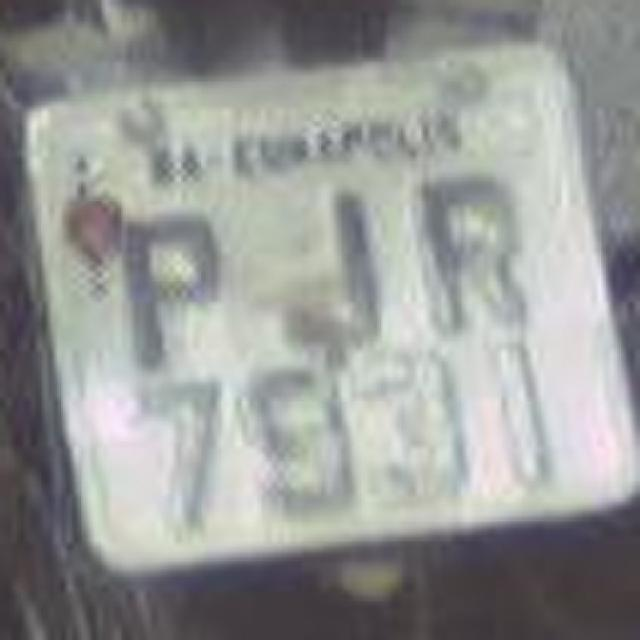1: (480, 324, 560, 491)
3: (228, 335, 360, 520), (356, 332, 472, 512)
7: (120, 356, 245, 549)
J: (272, 168, 392, 364)
P: (115, 188, 220, 380)
R: (408, 164, 524, 356)
